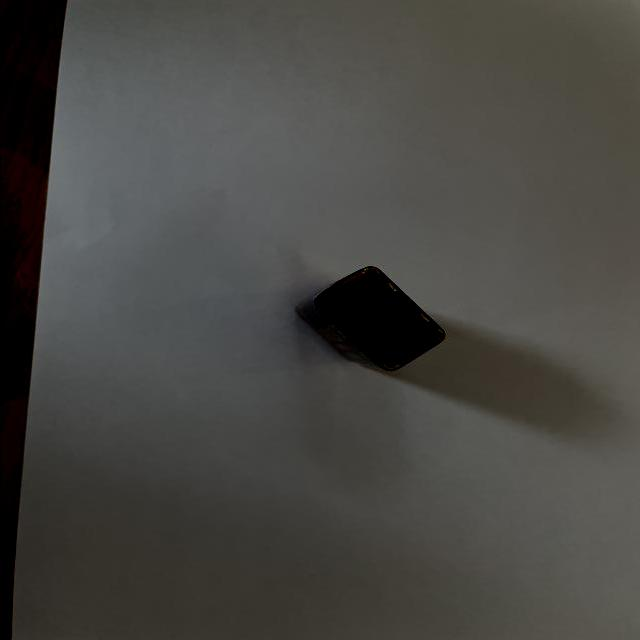9V: (292, 266, 445, 372)
